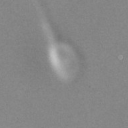normal: (22, 1, 66, 42)
